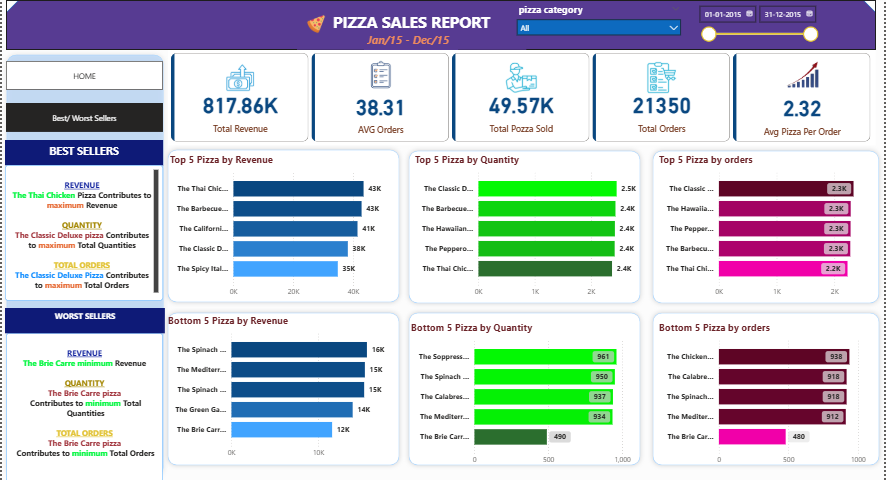

The dashboard page shown, as its layout file describes it:
{"tool":"powerbi","page":{"name":"Best/ Worst Sellers","canvas":[1500,820],"ordinal":1},"visuals":[{"type":"shape","box":[6.8,0,1480.1,85.1],"z":0},{"type":"textbox","box":[501.9,13.6,389.6,71.5],"z":1000},{"type":"textbox","box":[615.9,49.3,159.9,35.7],"z":2000},{"type":"image","box":[496.8,20.4,74.9,40.8],"z":3000},{"type":"shape","box":[273.9,246.7,410,275.6],"z":4000},{"type":"shape","box":[0,85.7,282.9,734.3],"z":5000},{"type":"textbox","box":[4.3,238.6,268.6,42.9],"z":6000},{"type":"textbox","box":[5.1,280.7,268.8,231.4],"z":7000},{"type":"textbox","box":[6.8,566.5,267.1,253.5],"z":8000},{"type":"textbox","box":[5.1,524,272.2,42.5],"z":9000},{"type":"slicer","fields":{"Values":["pizza_sales.pizza_category"]},"box":[865.9,0,299.4,85.1],"z":10000},{"type":"slicer","fields":{"Values":["pizza_sales.order_date"]},"box":[1173.9,0,222.9,85.1],"z":11000},{"type":"shape","box":[683.9,248.4,410,275.6],"z":12000},{"type":"shape","box":[1099,248.4,401,275.6],"z":13000},{"type":"shape","box":[273.9,524,410,275.6],"z":14000},{"type":"shape","box":[683.9,524,410,275.6],"z":15000},{"type":"shape","box":[1099,524,401.5,275.6],"z":16000},{"type":"barChart","title":"Top 5 Pizza by Revenue","fields":{"Category":["pizza_sales.pizza_name"],"Y":["pizza_sales.Total Revenue"]},"box":[281.5,259.8,401.6,253.9],"z":17000},{"type":"barChart","title":"Bottom 5 Pizza by Revenue","fields":{"Category":["pizza_sales.pizza_name"],"Y":["pizza_sales.Total Revenue"]},"box":[277.3,534.2,401.5,253.5],"z":18000},{"type":"barChart","title":"Top 5 Pizza by Quantity","fields":{"Category":["pizza_sales.pizza_name"],"Y":["pizza_sales.Total Pozza Sold"]},"box":[697.5,260.3,401.5,253.5],"z":19000},{"type":"barChart","title":"Bottom 5 Pizza by Quantity","fields":{"Category":["pizza_sales.pizza_name"],"Y":["pizza_sales.Total Pozza Sold"]},"box":[690.9,545.3,401.6,253.9],"z":20000},{"type":"barChart","title":"Top 5 Pizza by orders","fields":{"Category":["pizza_sales.pizza_name"],"Y":["pizza_sales.Total Orders"]},"box":[1112.6,260.3,374.3,253.5],"z":21000},{"type":"barChart","title":"Bottom 5 Pizza by orders","fields":{"Category":["pizza_sales.pizza_name"],"Y":["pizza_sales.Total Orders"]},"box":[1112.6,546.1,374.3,253.5],"z":22000},{"type":"pageNavigator","box":[6.8,175.2,267.1,49.3],"z":23000},{"type":"pageNavigator","box":[6.8,103.8,267.1,49.3],"z":24000},{"type":"cardVisual","fields":{"Data":["pizza_sales.Total Revenue","pizza_sales.AVG Orders","pizza_sales.Total Pozza Sold","pizza_sales.Total Orders","pizza_sales.Avg Pizza Per Order"]},"box":[282.4,85.1,1204.5,161.6],"z":25000}]}

Visuals, with their boxes in screenshot pixels (x1, y1, x2, y2), scaled from the page's 1500x820 canvas onto the 886x480 screenshot:
shape: [left=4, top=0, right=878, bottom=50]
textbox: [left=296, top=8, right=527, bottom=50]
textbox: [left=364, top=29, right=458, bottom=50]
image: [left=293, top=12, right=338, bottom=36]
shape: [left=162, top=144, right=404, bottom=306]
shape: [left=0, top=50, right=167, bottom=479]
textbox: [left=3, top=140, right=161, bottom=165]
textbox: [left=3, top=164, right=162, bottom=300]
textbox: [left=4, top=332, right=162, bottom=479]
textbox: [left=3, top=307, right=164, bottom=332]
slicer - pizza_sales.pizza_category: [left=511, top=0, right=688, bottom=50]
slicer - pizza_sales.order_date: [left=693, top=0, right=825, bottom=50]
shape: [left=404, top=145, right=646, bottom=307]
shape: [left=649, top=145, right=885, bottom=307]
shape: [left=162, top=307, right=404, bottom=468]
shape: [left=404, top=307, right=646, bottom=468]
shape: [left=649, top=307, right=885, bottom=468]
"Top 5 Pizza by Revenue" barChart: [left=166, top=152, right=403, bottom=301]
"Bottom 5 Pizza by Revenue" barChart: [left=164, top=313, right=401, bottom=461]
"Top 5 Pizza by Quantity" barChart: [left=412, top=152, right=649, bottom=301]
"Bottom 5 Pizza by Quantity" barChart: [left=408, top=319, right=645, bottom=468]
"Top 5 Pizza by orders" barChart: [left=657, top=152, right=878, bottom=301]
"Bottom 5 Pizza by orders" barChart: [left=657, top=320, right=878, bottom=468]
pageNavigator: [left=4, top=103, right=162, bottom=131]
pageNavigator: [left=4, top=61, right=162, bottom=90]
cardVisual - pizza_sales.Total Revenue x pizza_sales.AVG Orders: [left=167, top=50, right=878, bottom=144]
